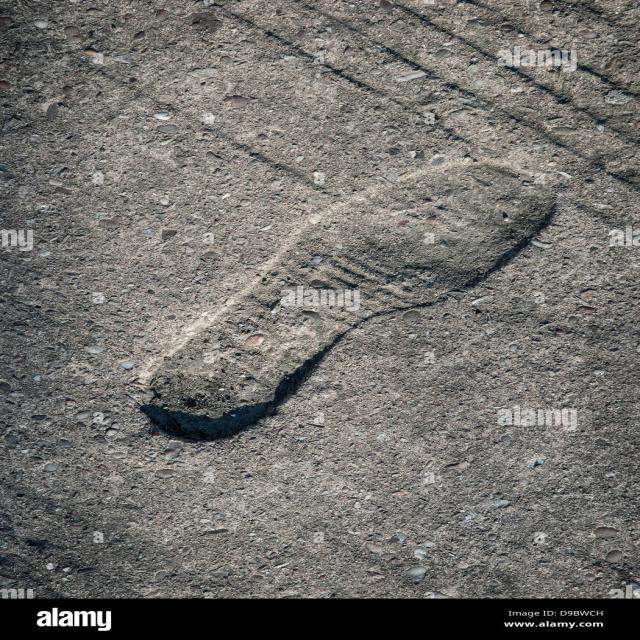human_footprint: (110, 89, 606, 500)
